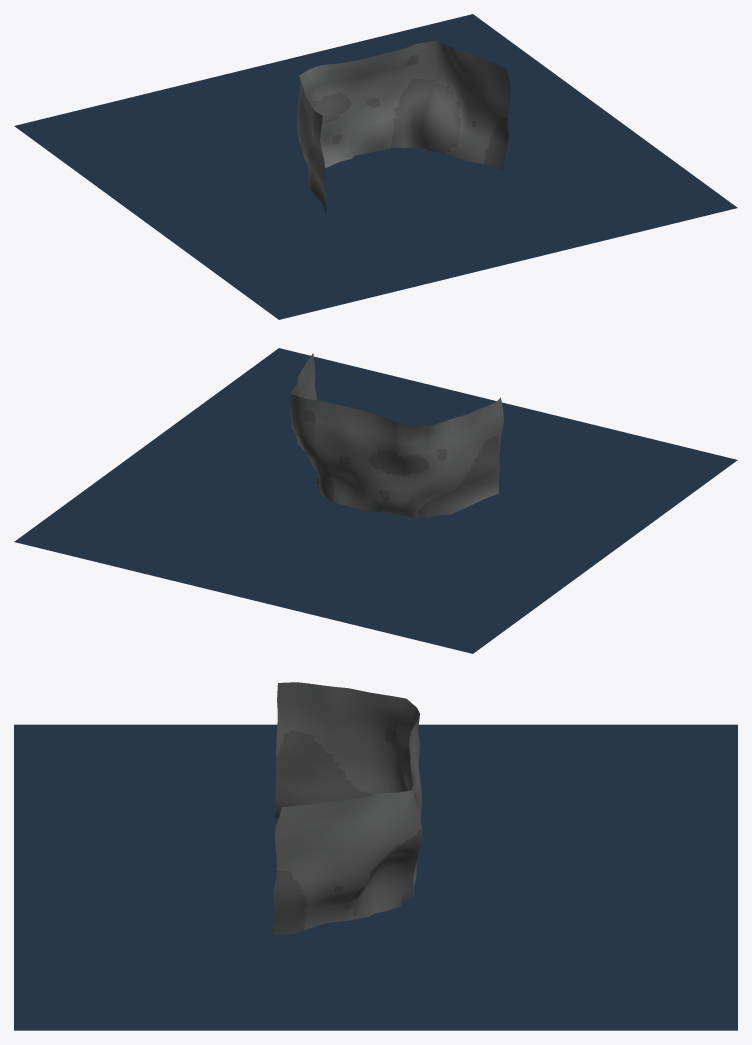
Rendered from Cave Area.glb.
3 renders of one model, top to bottom at view 1: azimuth 30°, elevation 25°; view 2: azimuth 150°, elevation 25°; view 3: azimuth 270°, elevation 25°, orthographic. The views are drawn at different scales.
Visible parts, largest first — view 1: Ground, Plane.002; view 2: Ground, Plane.002; view 3: Ground, Plane.002.
Part boxes in pixels (bbox=[...]): Ground: bbox=[14, 14, 737, 319]; Plane.002: bbox=[297, 40, 510, 212]; Ground: bbox=[14, 348, 737, 653]; Plane.002: bbox=[290, 353, 503, 517]; Ground: bbox=[14, 724, 737, 1030]; Plane.002: bbox=[273, 682, 422, 934].
Bounding box in the file's own units: 100 × 20.64 × 100.
Materials: 2 (1 with a texture image).
